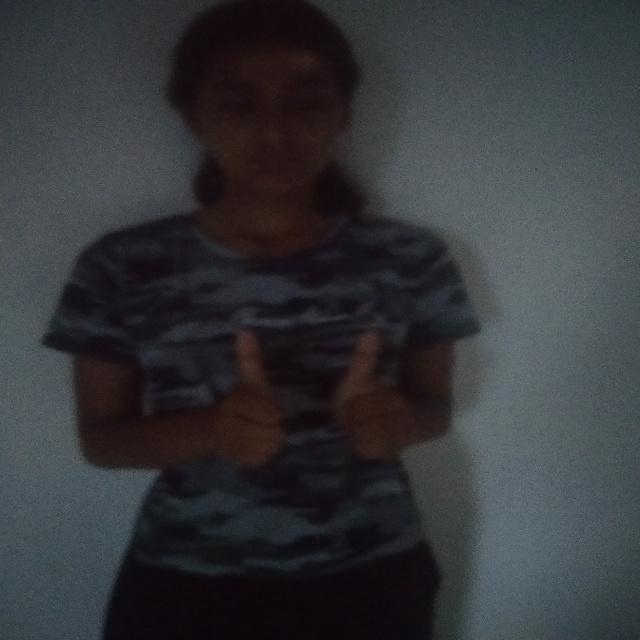Thumbs Up: (183, 322, 294, 475), (327, 320, 436, 467)
